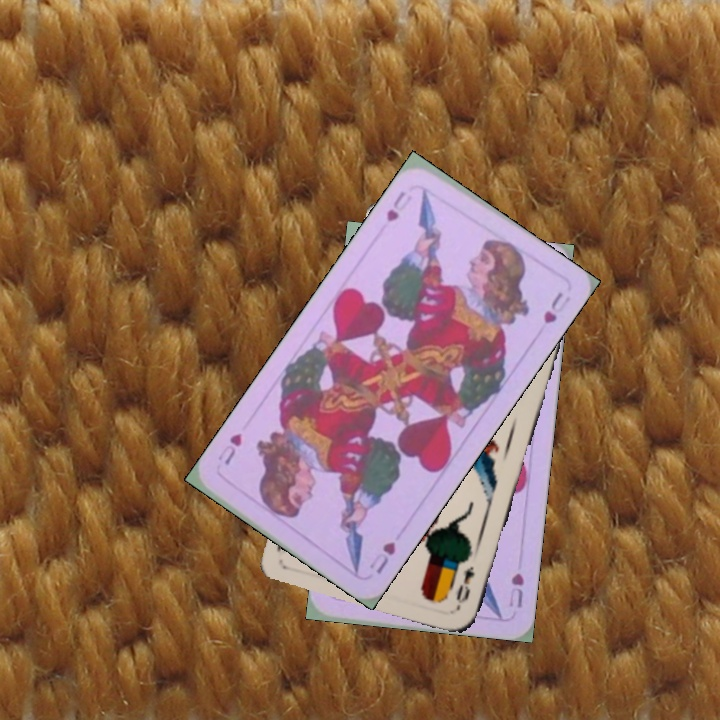EO: (452, 562, 477, 610)
HU: (365, 537, 398, 577), (382, 187, 415, 225), (505, 569, 527, 611)
